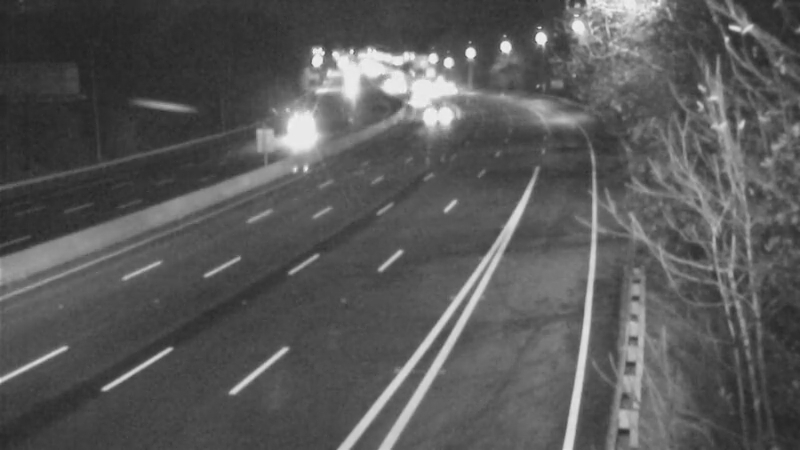vehicle: (393, 77, 443, 127), (416, 87, 466, 137), (280, 100, 330, 150)
